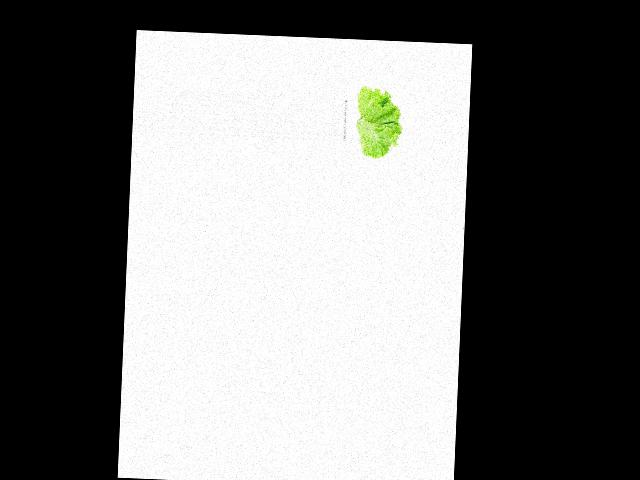lettuce: (345, 85, 404, 161)
